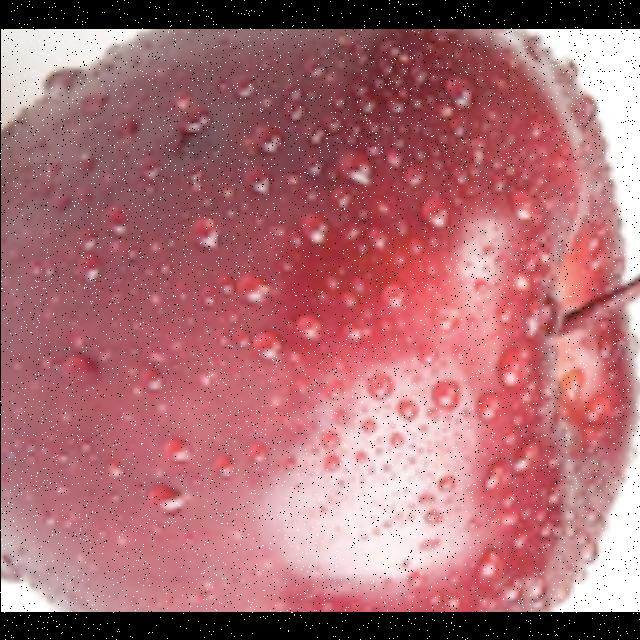Apel Segar: (0, 28, 640, 612)
